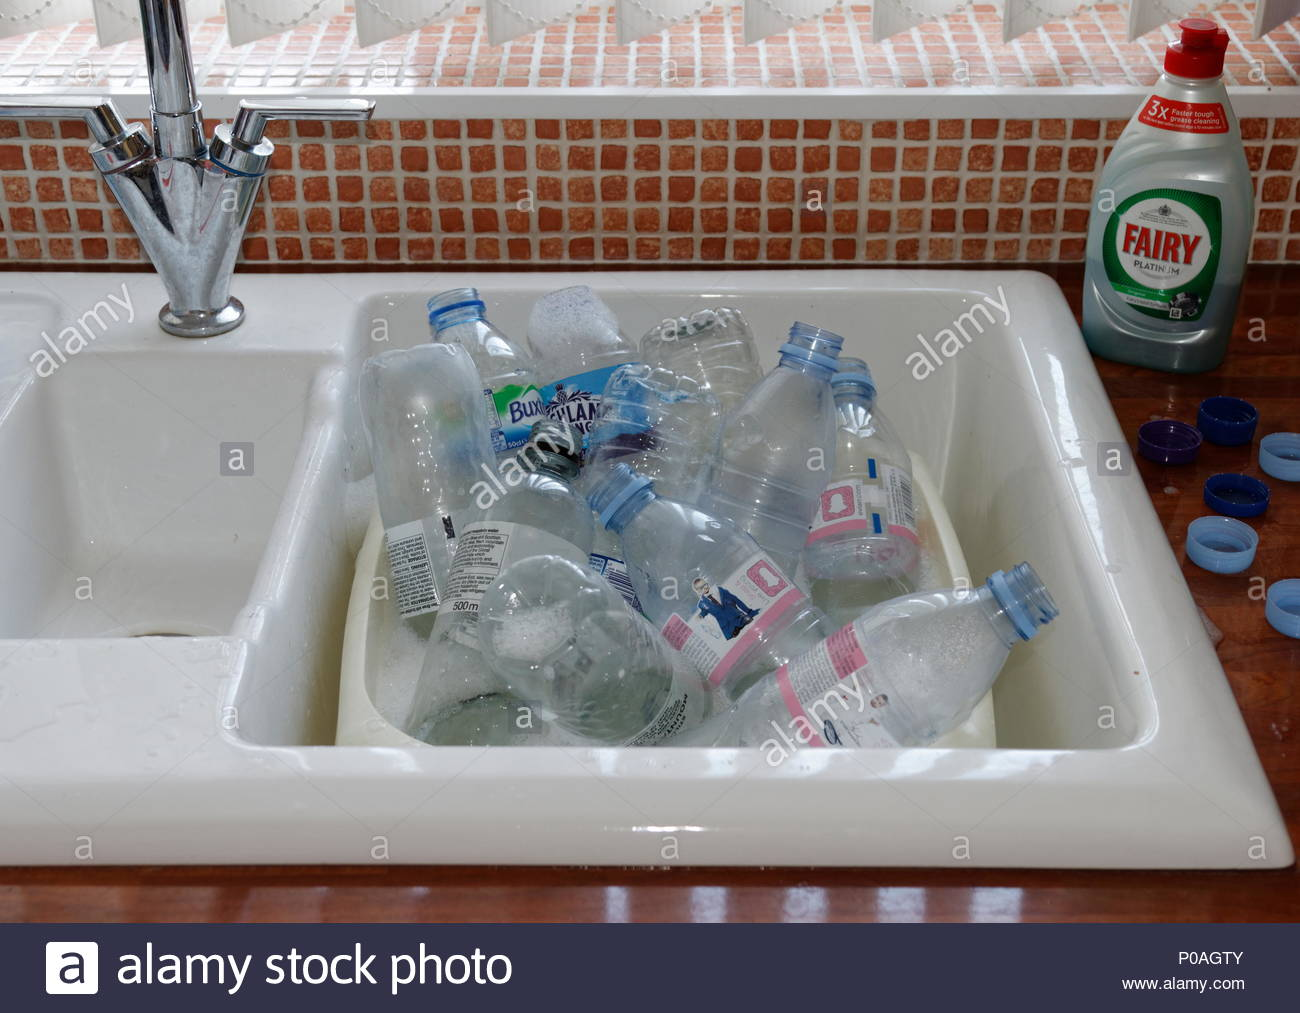plastic_bottle: (400, 460, 984, 866), (489, 188, 798, 787), (542, 306, 888, 825), (650, 491, 1159, 807), (358, 202, 599, 758), (714, 222, 1003, 686), (293, 259, 537, 782), (1025, 1, 1288, 454), (786, 274, 973, 673), (622, 200, 757, 601)
